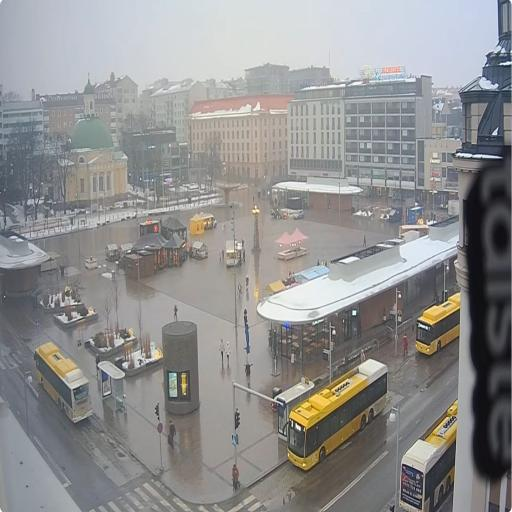Bus: (287, 358, 388, 470), (399, 398, 458, 511), (34, 342, 92, 423), (416, 293, 460, 355)
